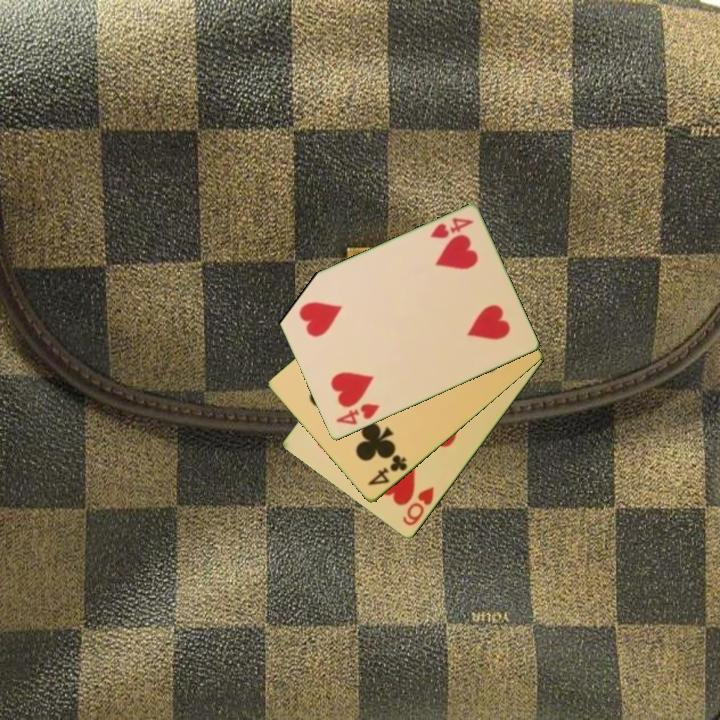4c: (364, 451, 410, 489)
4h: (332, 400, 383, 428), (426, 214, 476, 242)
6h: (399, 483, 437, 529)
